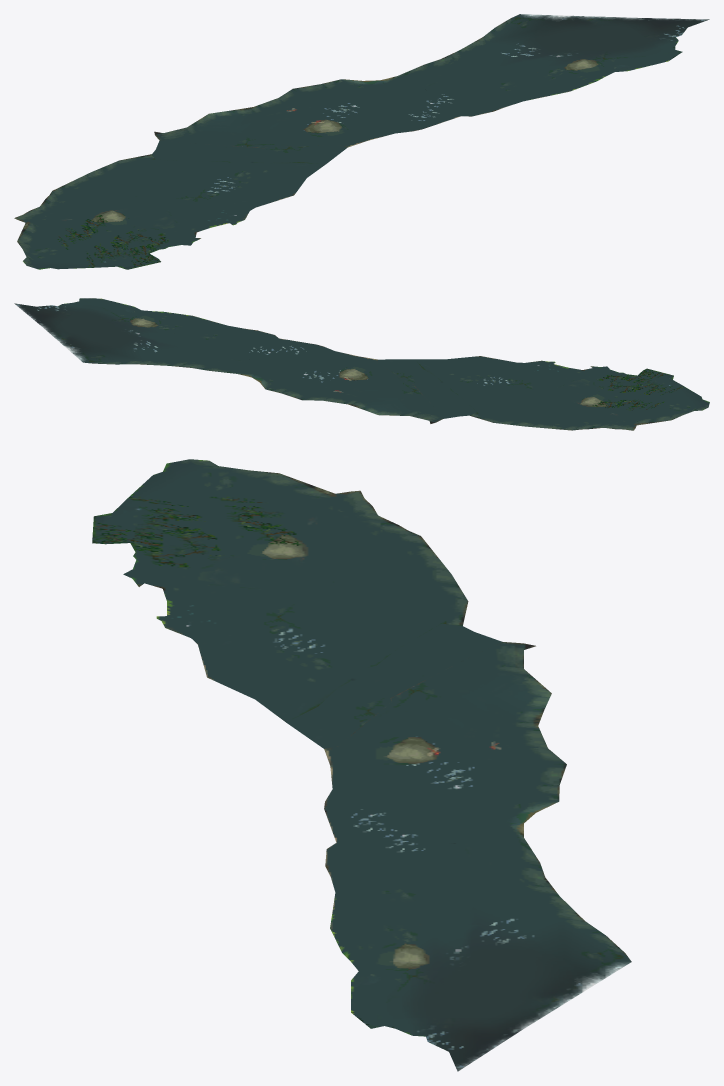
File: Water.fbx
3 renders of one model, top to bottom at view 1: azimuth 30°, elevation 25°; view 2: azimuth 150°, elevation 25°; view 3: azimuth 270°, elevation 25°, orthographic. The views are drawn at different scales.
Parts seen in each view (by area): view 1: Water; view 2: Water; view 3: Water.
Boxes of the visible parts, bbox=[...] form: Water: bbox=[14, 14, 709, 269]; Water: bbox=[14, 298, 709, 430]; Water: bbox=[92, 459, 631, 1071].
Size of the model in its own units: 5723 by 0.000347 by 2131.
